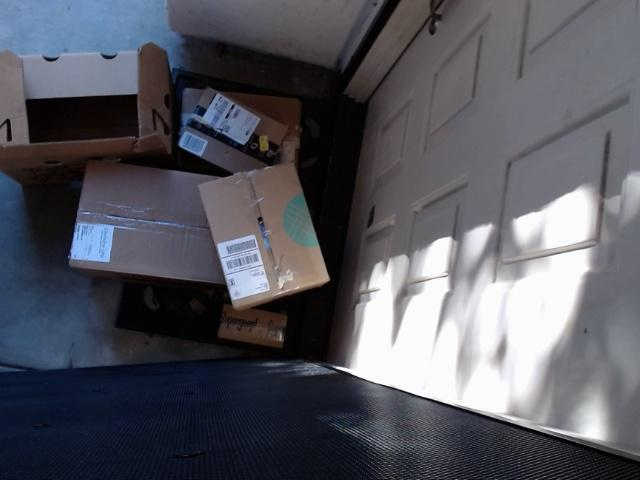box: (53, 163, 345, 305), (3, 33, 171, 175), (194, 162, 328, 291), (183, 70, 334, 177), (185, 289, 296, 366)
